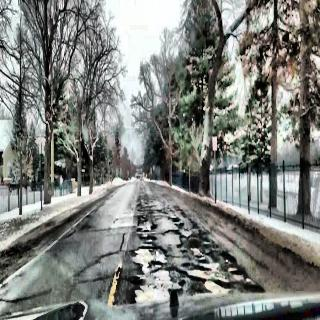pothole: (128, 189, 262, 318)
